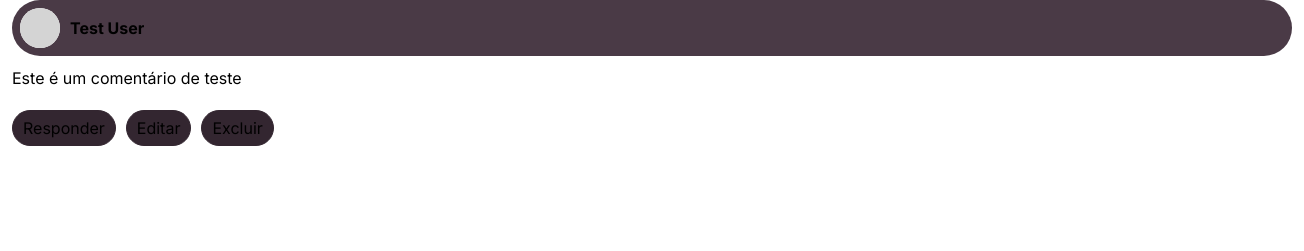
CommentCard › deve entrar em modo de edição ao clicar em Editar
This screenshot has width=1304, height=251.
Click the text "Editar". click: (159, 128)
box: [126,110,191,146]
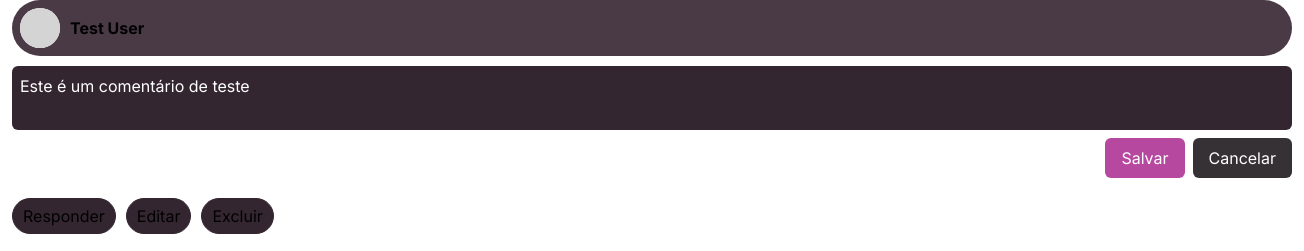
Now the text box showing "Este é um comentário de teste" is shown, box [12,66,1292,130]
Now the button "Salvar" is shown, box [1105,138,1184,178]
Now the button "Cancelar" is shown, box [1192,138,1292,178]
